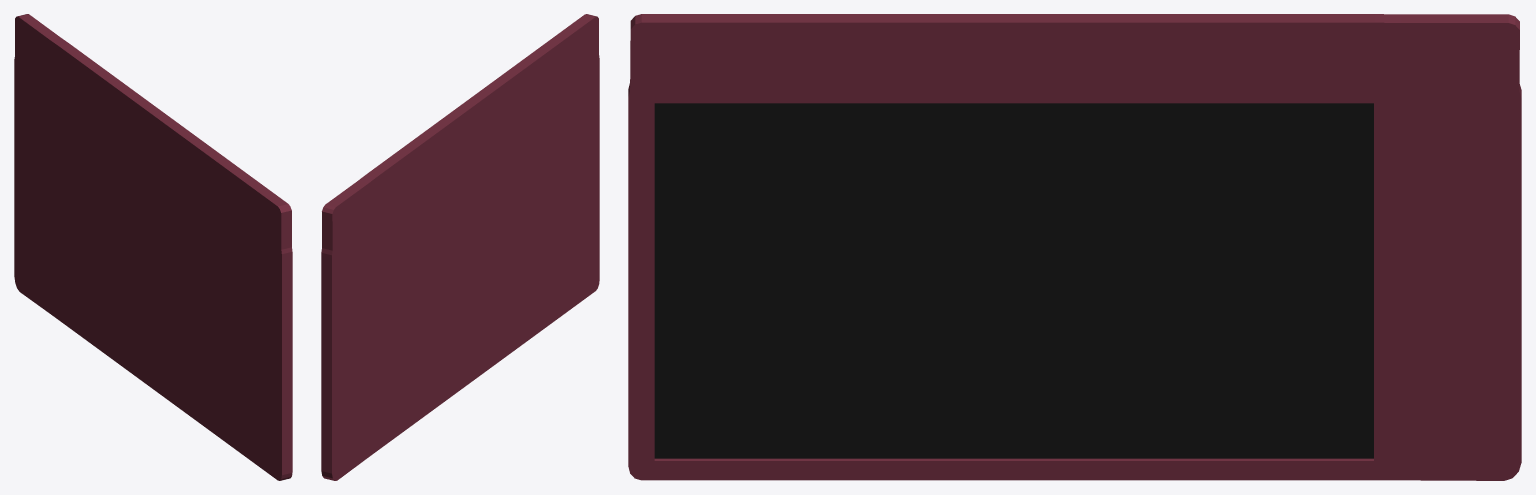
The model's file is Control Panel.fbx.
3 views of the same model, side by side, from view 1: azimuth 30°, elevation 25°; view 2: azimuth 150°, elevation 25°; view 3: azimuth 270°, elevation 25° (orthographic). The views are drawn at different scales.
Parts seen in each view (by area): view 1: Cube; view 2: Cube; view 3: Cube.
Boxes of the visible parts, left/top/right/bottom form: Cube: left=14, top=14, right=292, bottom=480; Cube: left=321, top=14, right=599, bottom=480; Cube: left=628, top=14, right=1521, bottom=480.
Bounding box in the file's own units: 20.02 × 494 × 872.
